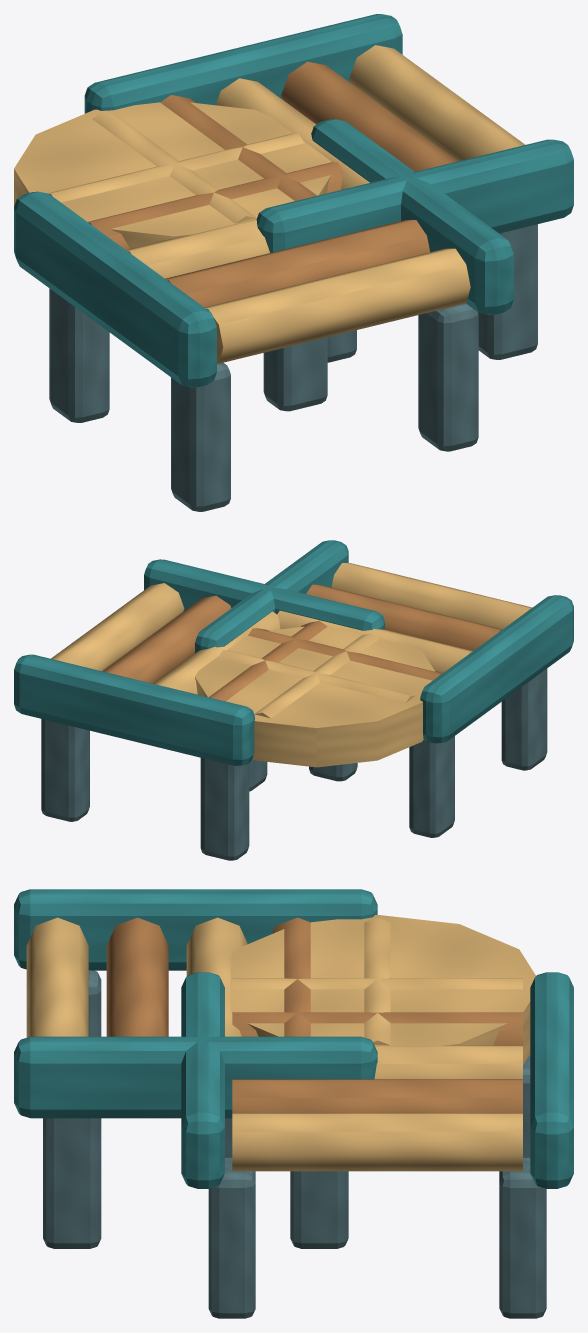
Rendered from conveyor-corner.glb.
3 renders of one model, top to bottom at view 1: azimuth 30°, elevation 25°; view 2: azimuth 150°, elevation 25°; view 3: azimuth 270°, elevation 25°, orthographic. The views are drawn at different scales.
Visible parts, largest first — view 1: conveyor-corner-mesh; view 2: conveyor-corner-mesh; view 3: conveyor-corner-mesh.
Part boxes in pixels (x1=…): conveyor-corner-mesh: x1=14, y1=14, x2=573, y2=511; conveyor-corner-mesh: x1=14, y1=540, x2=573, y2=860; conveyor-corner-mesh: x1=14, y1=889, x2=573, y2=1318.
Bounding box in the file's own units: 1.54 × 0.655 × 1.54.
1 material, 1 textured.
